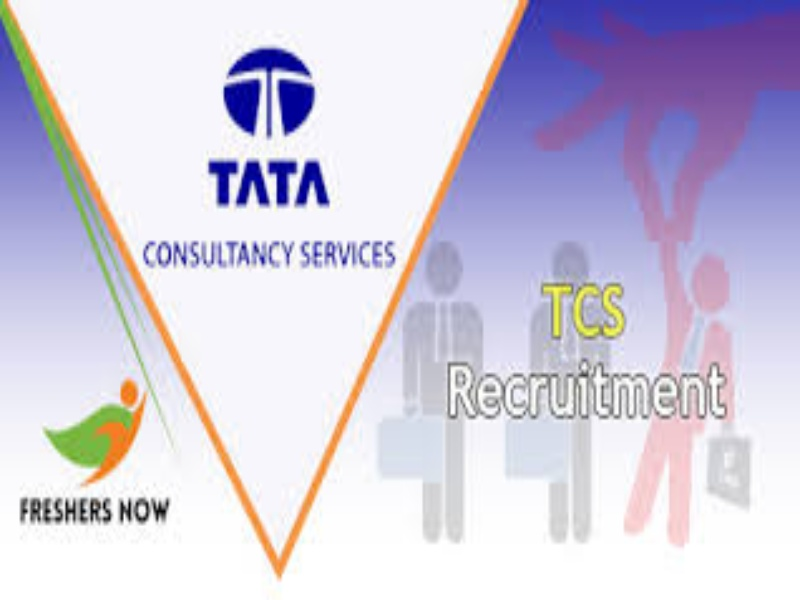tcs: (218, 46, 321, 141)
